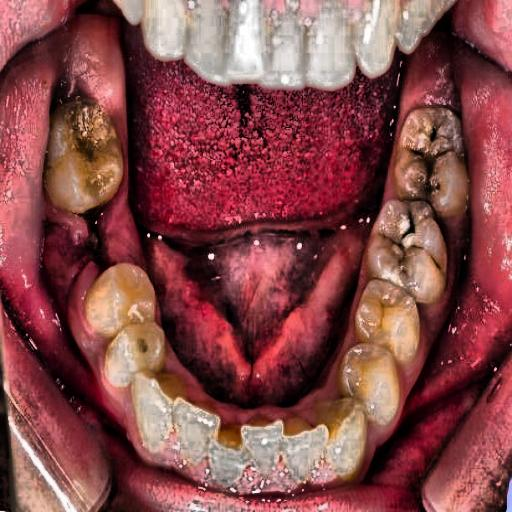Gingivitis: (45, 219, 136, 409)
